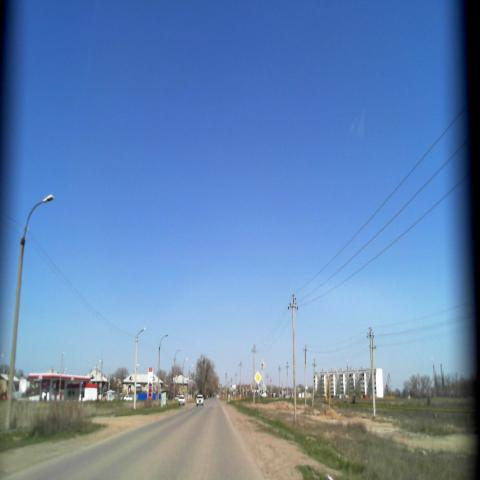2_1: (254, 371, 262, 385)
